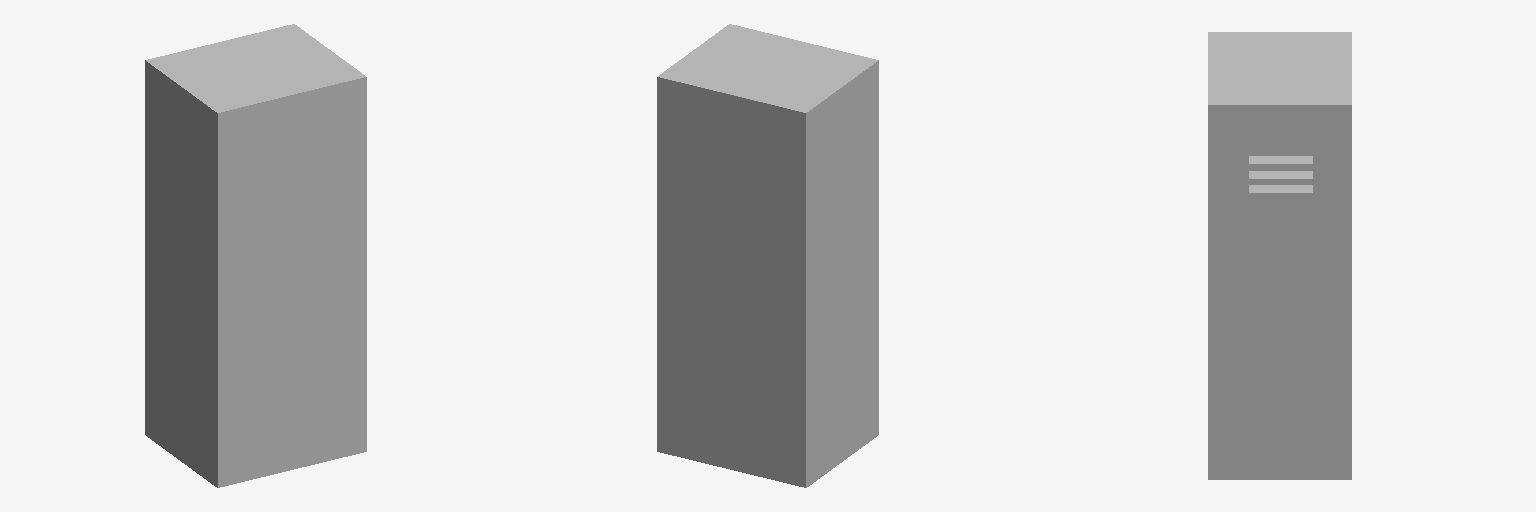
The model's file is Locker.obj.
3 views of the same model, side by side, from view 1: azimuth 30°, elevation 25°; view 2: azimuth 150°, elevation 25°; view 3: azimuth 270°, elevation 25° (orthographic).
Visible parts, largest first — view 1: Locker; view 2: Locker; view 3: Locker Door, Locker.
Boxes of the visible parts, box(x1,y1,x2,y2) form: Locker: box(145, 24, 366, 487); Locker: box(657, 24, 878, 487); Locker Door: box(1218, 117, 1341, 467); Locker: box(1208, 32, 1351, 479).
Bounding box in the file's own units: 0.5 × 1.2 × 0.42.